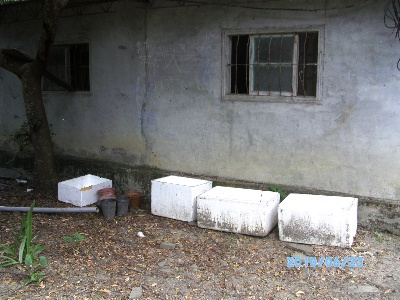bowl: (126, 191, 142, 210), (115, 197, 129, 218), (102, 202, 116, 223)
styrofoam: (277, 193, 358, 248), (195, 185, 279, 237), (150, 174, 212, 221), (58, 174, 114, 207)
